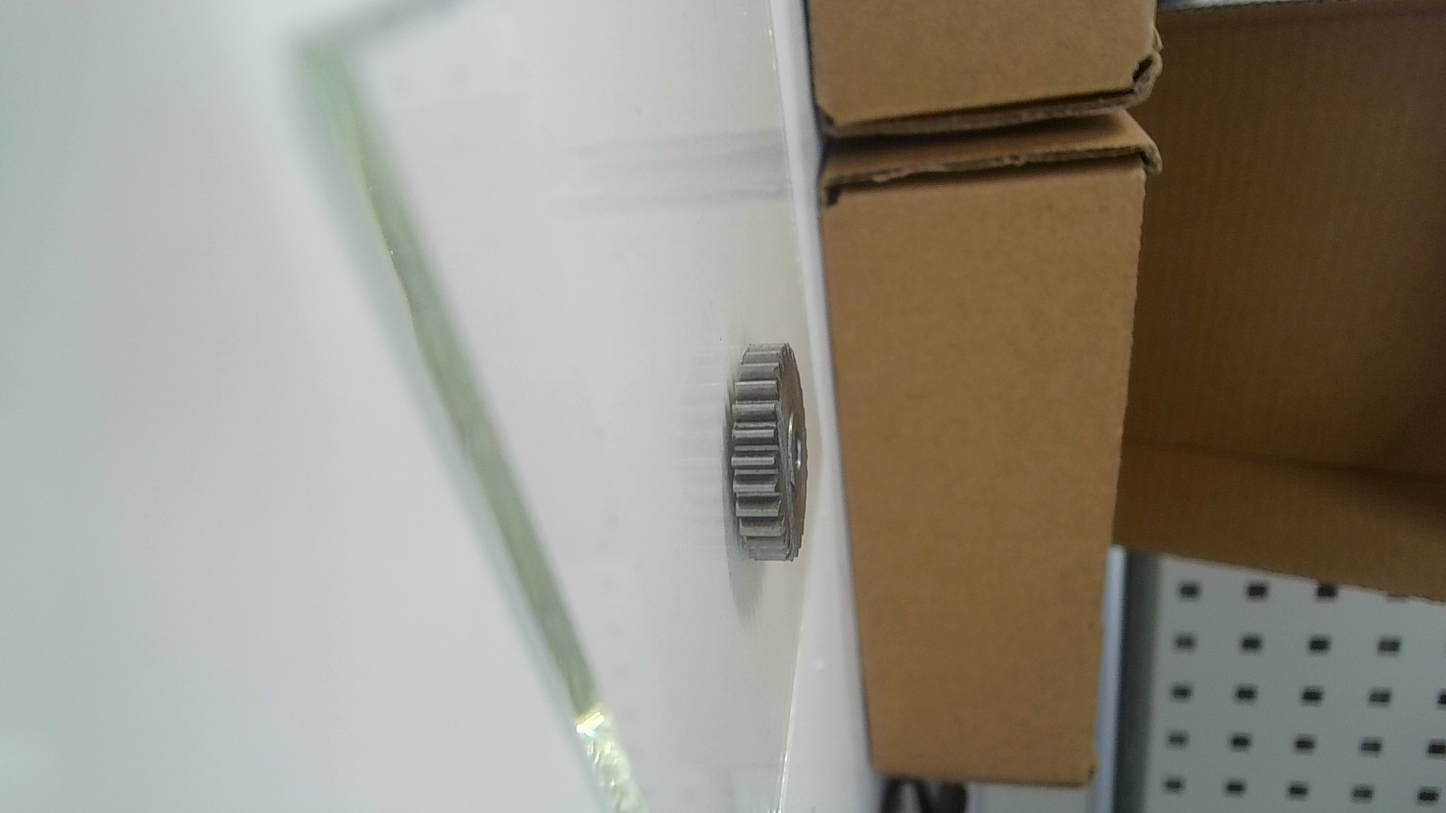gear: (724, 333, 815, 570)
